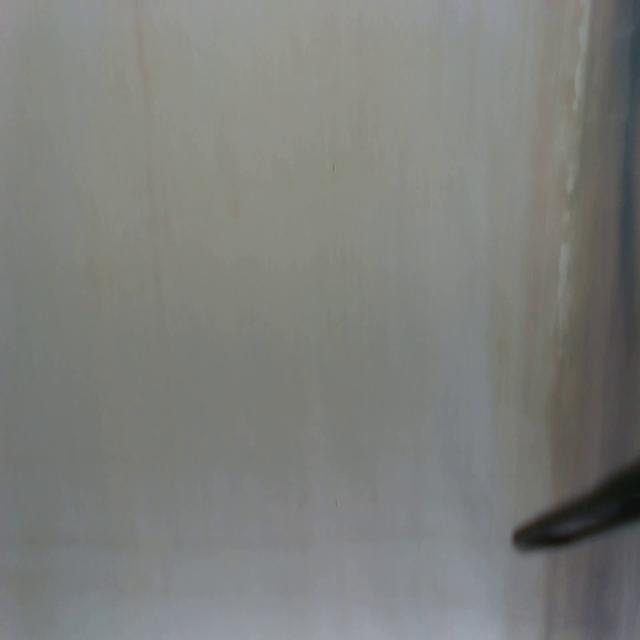color bleeding: (501, 0, 640, 468)
hole: (331, 164, 337, 174)
